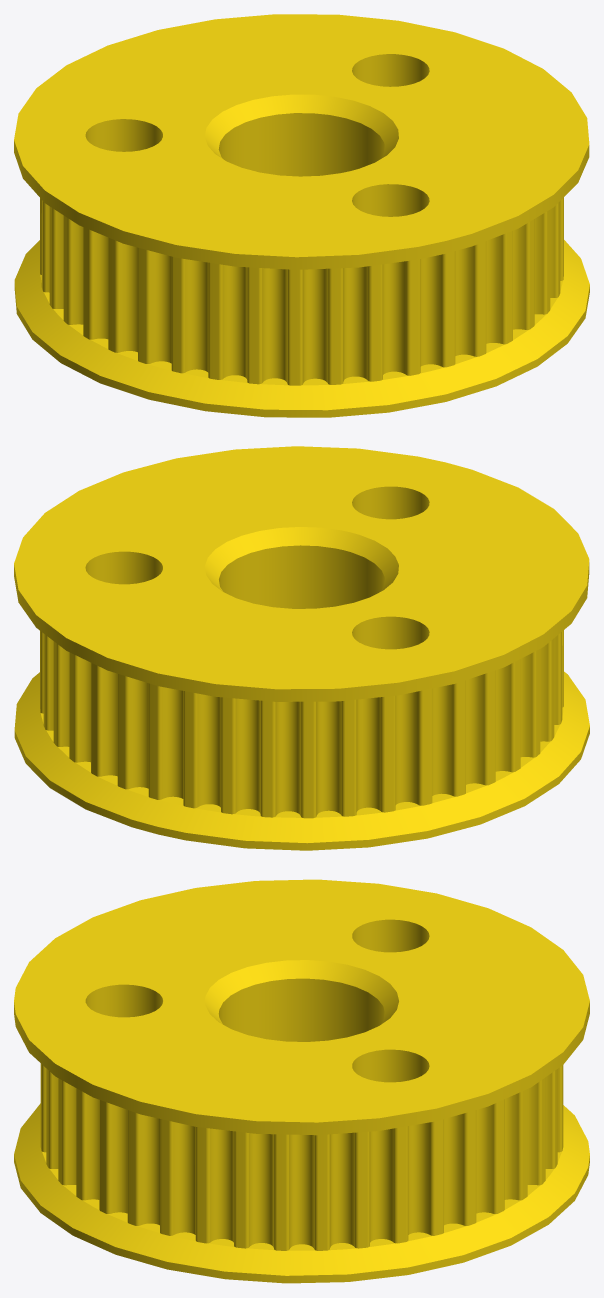
Rendered from A26_W106_drivenPulley.gltf.
The picture shows the model from 3 angles, top to bottom: view 1: azimuth 30°, elevation 25°; view 2: azimuth 150°, elevation 25°; view 3: azimuth 270°, elevation 25°; orthographic projection.
Visible parts, largest first — view 1: mesh18057, mesh18059, mesh18046, mesh18058, mesh18043, mesh18047, mesh18128, mesh18122, mesh18116, mesh18134, mesh18110, mesh18140 (+50 smaller); view 2: mesh18057, mesh18059, mesh18046, mesh18058, mesh18043, mesh18047, mesh18200, mesh18206, mesh18212, mesh18194, mesh18218, mesh18188 (+50 smaller); view 3: mesh18057, mesh18059, mesh18046, mesh18058, mesh18043, mesh18047, mesh18284, mesh18278, mesh18290, mesh18296, mesh18272, mesh18050 (+48 smaller).
Boxes of the visible parts, x1,y1,x2,y2 form: mesh18057: (14,14,589,257); mesh18059: (14,240,589,410); mesh18046: (218,113,384,176); mesh18058: (14,140,589,269); mesh18043: (14,283,589,417); mesh18047: (205,94,398,158); mesh18128: (265,268,286,381); mesh18122: (304,269,325,381); mesh18116: (344,266,364,379); mesh18134: (226,265,246,378); mesh18110: (383,262,402,374); mesh18140: (189,260,208,372); mesh18057: (14,446,589,689); mesh18059: (14,671,589,843); mesh18046: (219,545,384,608); mesh18058: (14,562,589,701); mesh18043: (14,726,589,850); mesh18047: (205,527,398,591); mesh18200: (317,701,338,813); mesh18206: (278,701,299,813); mesh18212: (239,699,259,812); mesh18194: (357,697,377,811); mesh18218: (201,694,220,807); mesh18188: (395,692,414,804); mesh18057: (14,879,589,1122); mesh18059: (14,1103,589,1275); mesh18046: (218,978,385,1041); mesh18058: (14,1002,589,1135); mesh18043: (14,1155,589,1283); mesh18047: (205,960,398,1024); mesh18284: (291,1134,312,1246); mesh18278: (331,1133,351,1245); mesh18290: (252,1133,272,1245); mesh18296: (214,1129,233,1242); mesh18272: (370,1129,389,1242); mesh18050: (352,1049,429,1082).
Bounding box in the file's own units: 0.0411 × 0.0127 × 0.0412.
